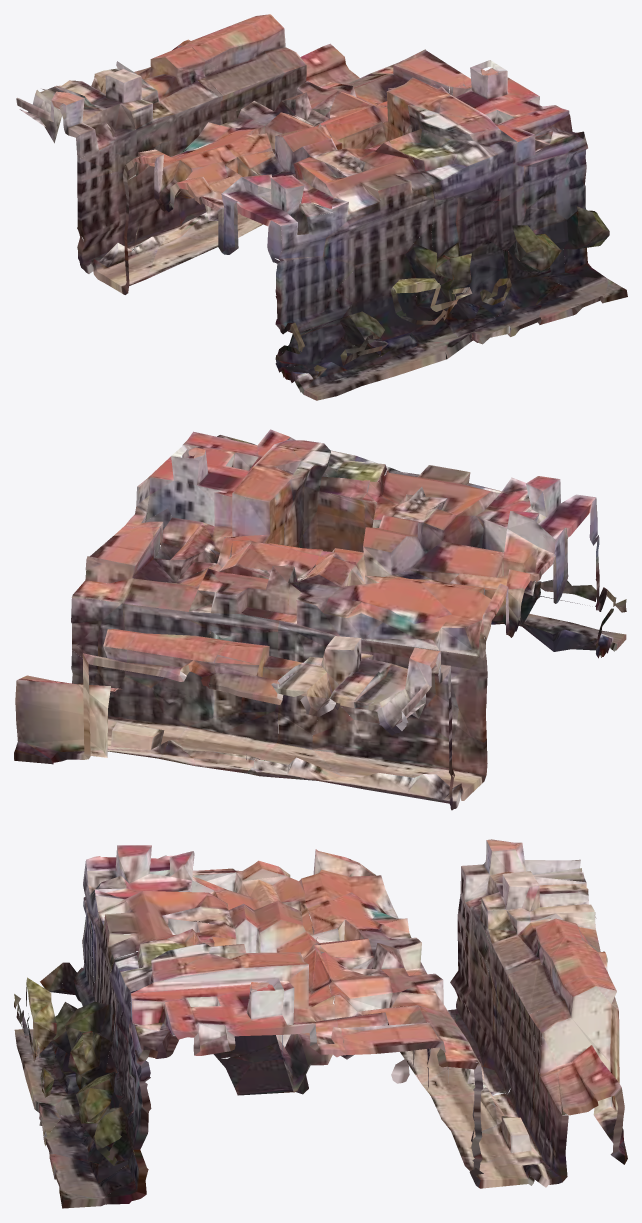
3 renders of one model, top to bottom at view 1: azimuth 30°, elevation 25°; view 2: azimuth 150°, elevation 25°; view 3: azimuth 270°, elevation 25°, orthographic. The views are drawn at different scales.
Parts seen in each view (by area): view 1: Mesh_0; view 2: Mesh_0; view 3: Mesh_0.
Boxes of the visible parts, x1,y1,x2,y2 form: Mesh_0: [16, 14, 627, 400]; Mesh_0: [14, 429, 626, 810]; Mesh_0: [14, 839, 627, 1208].
Size of the model in its own units: 67.16 by 31.01 by 82.37.
Materials: 2 (2 with a texture image).
